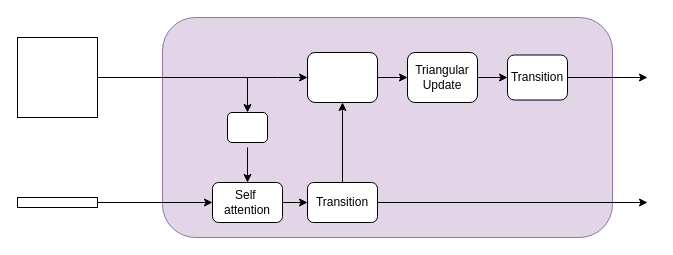
Some shapes in this 673 by 255 pixel diagram are drawn without their labels. Here are the shapes that lost their labels. From the top down, the centre of each, then its label:
(342,77): PairWise Prodoct
(247,127): Bias
